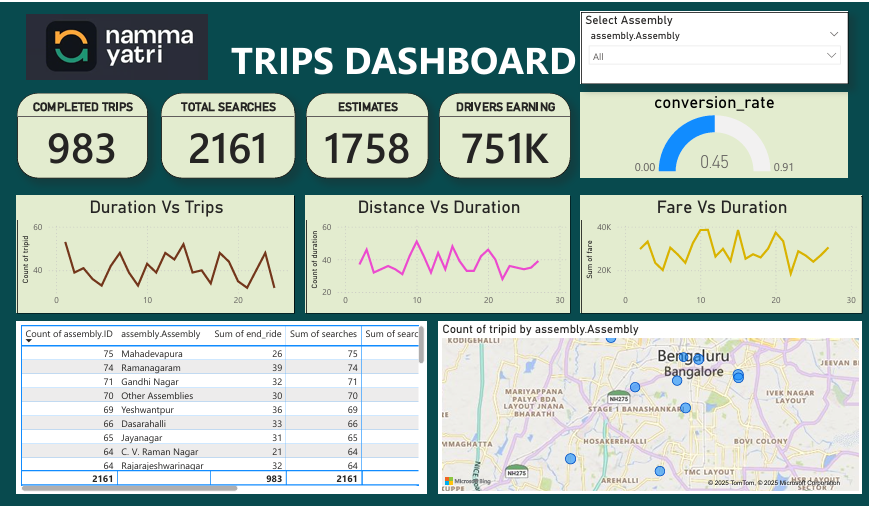

This screenshot's page, from the dashboard's own definition file:
{"tool":"powerbi","page":{"name":"Page 1","canvas":[1280,720],"ordinal":0},"visuals":[{"type":"card","title":"COMPLETED TRIPS","fields":{"Values":["Sum(trip_details.end_ride)"]},"box":[23.3,128.3,186.7,121.7],"z":0},{"type":"card","title":"TOTAL SEARCHES","fields":{"Values":["Sum(trip_details.searches)"]},"box":[228.3,128.3,191.7,121.7],"z":1000},{"type":"card","title":"ESTIMATES","fields":{"Values":["Sum(trip_details.searches_got_estimate)"]},"box":[435,128.3,175,121.7],"z":2000},{"type":"card","title":"DRIVERS EARNING","fields":{"Values":["Sum(trips.fare)"]},"box":[625,128.3,188.3,121.7],"z":3000},{"type":"gauge","fields":{"Y":["trip_details.conversion_rate"]},"box":[828.3,128.3,381.7,121.7],"z":4000},{"type":"lineChart","title":" Duration Vs Trips","fields":{"Category":["trips.duration"],"Y":["CountNonNull(trips.tripid)"]},"box":[23.3,275,396.7,168.3],"z":5000},{"type":"lineChart","title":" Distance Vs Duration","fields":{"Category":["trips.distance"],"Y":["CountNonNull(trips.duration)"]},"box":[435,275,378.3,168.3],"z":6000},{"type":"lineChart","title":"Fare Vs Duration","fields":{"Y":["Sum(trips.fare)"],"Category":["trips.distance"]},"box":[828.3,275,401.7,168.3],"z":7000},{"type":"tableEx","fields":{"Values":["CountNonNull(Merge2.assembly.ID)","Merge2.assembly.Assembly","Sum(Merge2.end_ride)","Sum(Merge2.searches)","Sum(Merge2.searches_for_quotes)","Sum(Merge2.trips.distance)","Sum(Merge2.trips.duration)","trip_details.conversion_rate"]},"box":[23.3,455,586.7,246.7],"z":8000},{"type":"map","fields":{"Category":["Merge2.assembly.Assembly"],"Size":["CountNonNull(Merge2.tripid)"]},"box":[625,455,605,246.7],"z":9000},{"type":"image","box":[31.7,0,270,128.3],"z":10000},{"type":"textbox","box":[325,38.3,526.7,90],"z":11000},{"type":"slicer","title":"Select Assembly","fields":{"Values":["Merge2.assembly.Assembly"]},"box":[828.3,13.3,381.7,103.3],"z":12000}]}

Visuals, with their boxes in screenshot pixels (x1, y1, x2, y2):
"COMPLETED TRIPS" card: select_region(18, 91, 148, 176)
"TOTAL SEARCHES" card: select_region(161, 91, 294, 176)
"ESTIMATES" card: select_region(304, 91, 426, 176)
"DRIVERS EARNING" card: select_region(436, 91, 567, 176)
gauge - trip_details.conversion_rate: select_region(577, 91, 842, 176)
" Duration Vs Trips" lineChart: select_region(18, 193, 294, 310)
" Distance Vs Duration" lineChart: select_region(304, 193, 567, 310)
"Fare Vs Duration" lineChart: select_region(577, 193, 856, 310)
tableEx - CountNonNull(Merge2.assembly.ID) x Merge2.assembly.Assembly: select_region(18, 318, 426, 489)
map - Merge2.assembly.Assembly x CountNonNull(Merge2.tripid): select_region(436, 318, 856, 489)
image: select_region(24, 2, 212, 91)
textbox: select_region(228, 29, 593, 91)
"Select Assembly" slicer: select_region(577, 11, 842, 83)
